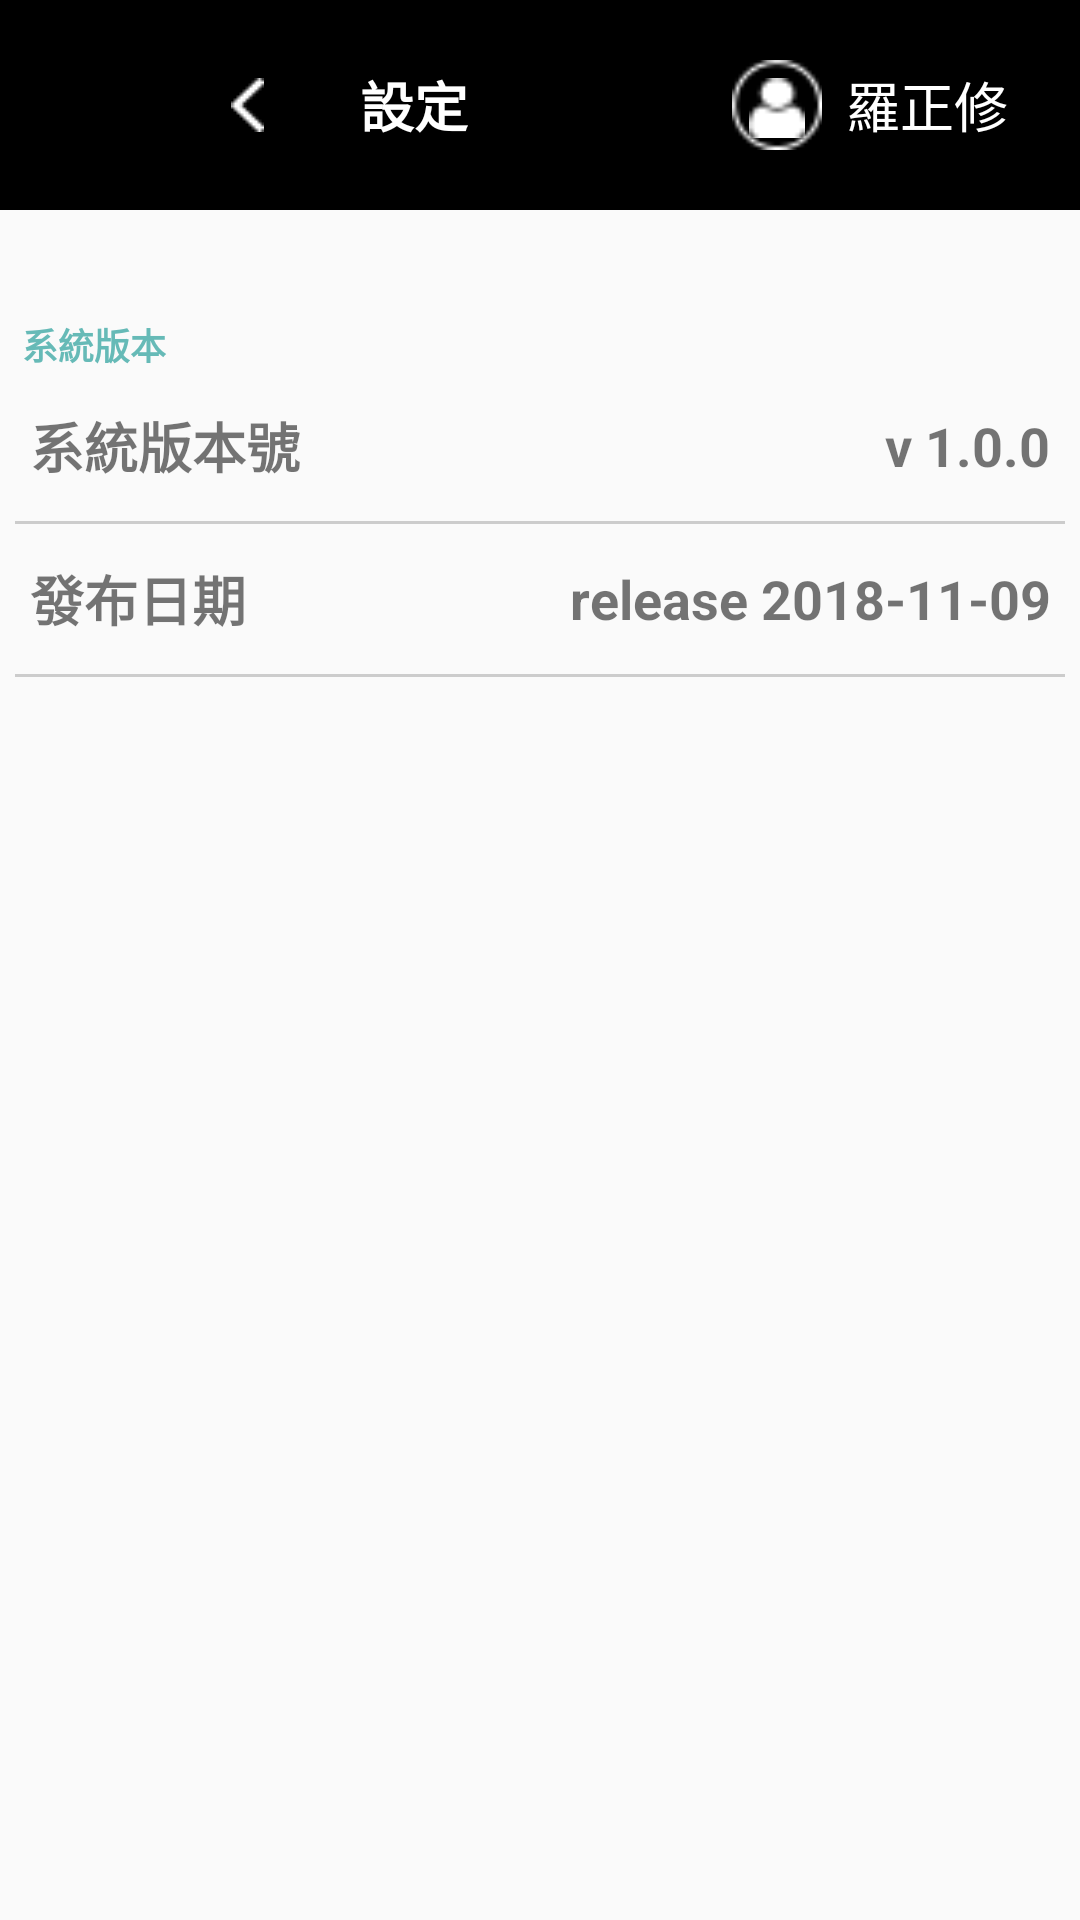

Icons on this 1080×1920 Android screen, each with the point to tap as (x,y):
返回上一頁: (247,105)
